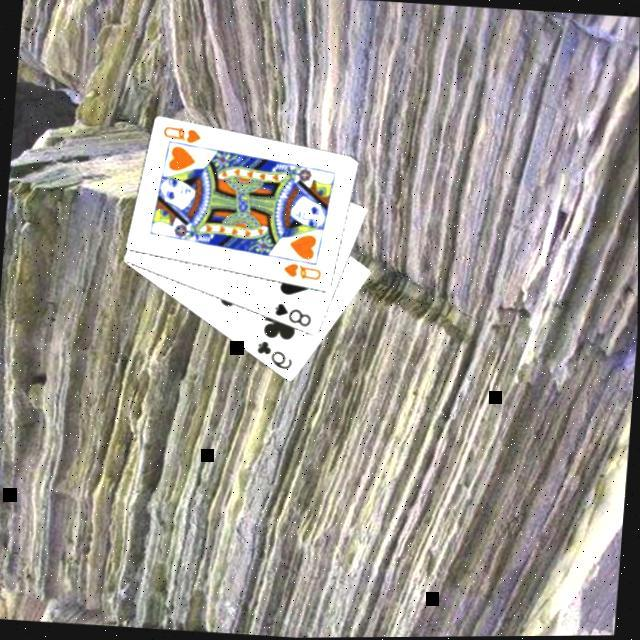6C: (251, 336, 295, 373)
8S: (268, 298, 314, 330)
QH: (157, 121, 207, 151), (278, 258, 323, 283)
